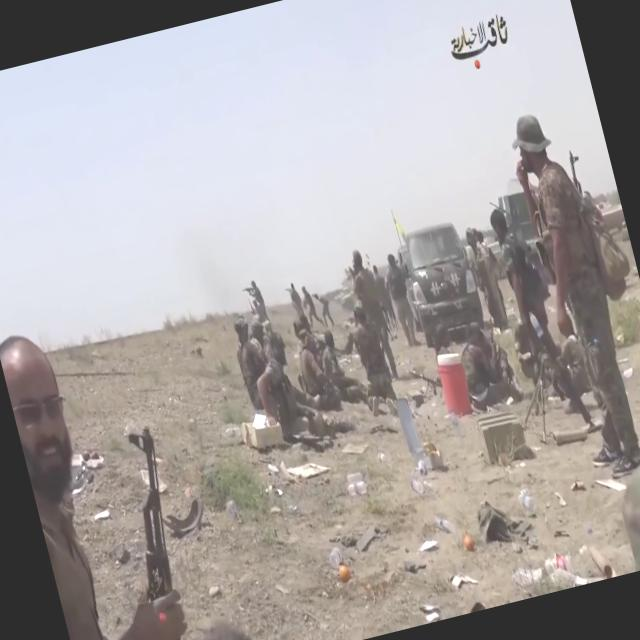long weapon: (66, 377, 235, 639)
